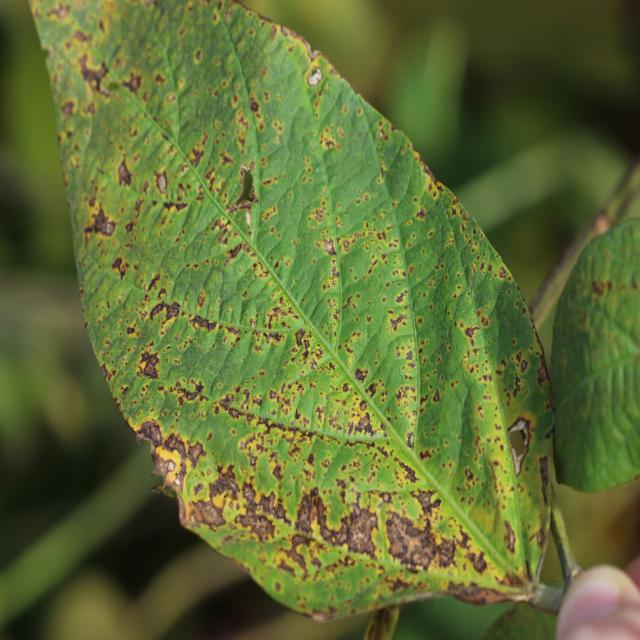Bacterial_Blight: (141, 427, 217, 516), (384, 506, 453, 571), (232, 494, 280, 540), (346, 503, 379, 556), (506, 416, 532, 474), (79, 53, 110, 94), (230, 166, 258, 210), (295, 492, 319, 537), (85, 204, 116, 238), (168, 381, 207, 406), (149, 299, 182, 328), (348, 409, 378, 438), (123, 201, 146, 237), (412, 489, 440, 515), (137, 350, 161, 380), (421, 161, 442, 192), (189, 313, 219, 333), (138, 419, 163, 443), (462, 324, 483, 348), (117, 156, 133, 186), (122, 70, 142, 94), (504, 519, 517, 553), (162, 199, 188, 214), (389, 312, 408, 332), (591, 278, 610, 297), (154, 169, 169, 193), (189, 146, 205, 168), (224, 243, 243, 261), (111, 256, 126, 277), (60, 100, 75, 120), (389, 537, 404, 557), (147, 272, 161, 292), (294, 329, 307, 348), (537, 365, 548, 387), (323, 238, 337, 255), (354, 367, 368, 383), (249, 96, 260, 116), (419, 448, 433, 461), (395, 290, 407, 304), (100, 364, 109, 381), (405, 432, 414, 448), (519, 358, 528, 373), (197, 292, 205, 308), (432, 389, 441, 403), (126, 324, 136, 336), (166, 92, 176, 104), (498, 266, 507, 279), (358, 399, 367, 411)
Soybean: (32, 0, 563, 638)
